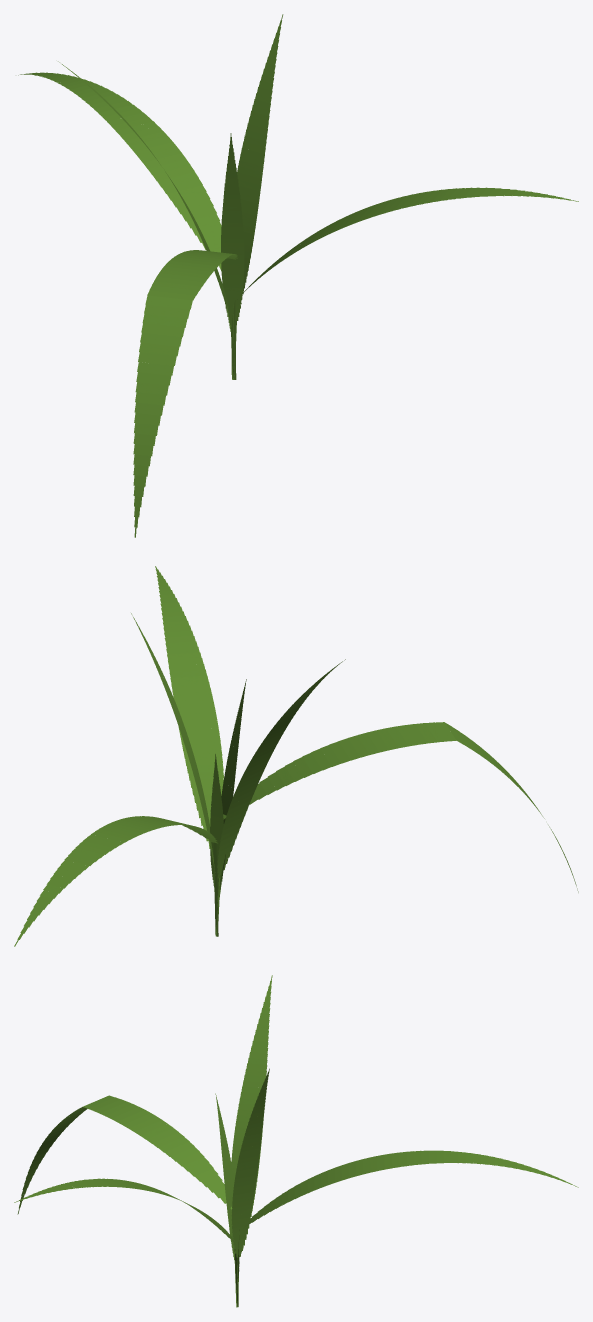
File: maize_002_day_060.dae
The picture shows the model from 3 angles, top to bottom: view 1: azimuth 30°, elevation 25°; view 2: azimuth 150°, elevation 25°; view 3: azimuth 270°, elevation 25°; orthographic projection. The views are drawn at different scales.
Parts seen in each view (by area): view 1: node; view 2: node; view 3: node.
Part boxes in pixels (x1,y1,x2,y2): node: (18,14,578,537); node: (14,566,578,946); node: (14,975,578,1307).
Bounding box in the file's own units: 0.5058 × 0.3734 × 0.7043.
1 material, 1 textured.
